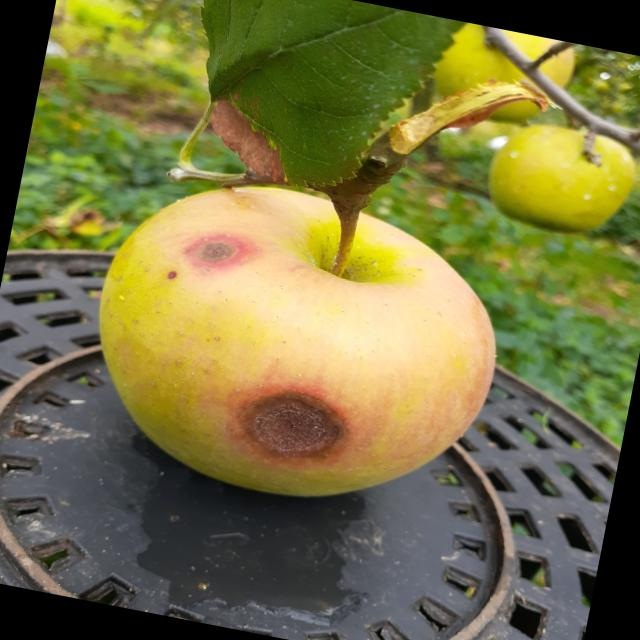rotten: (50, 137, 543, 547)
